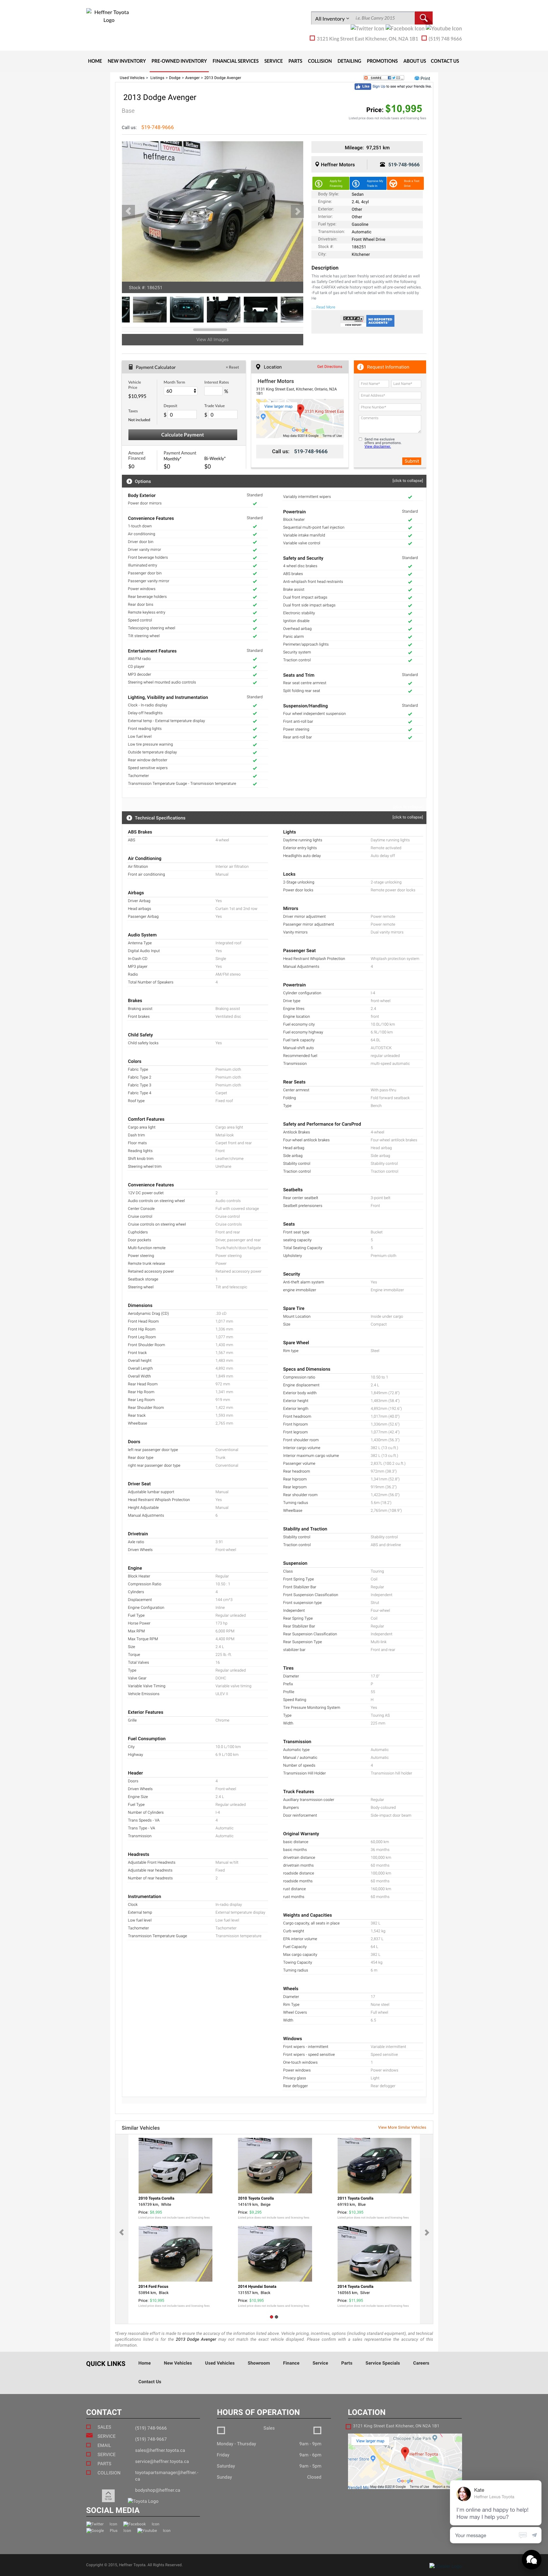car: (290, 205, 304, 218)
